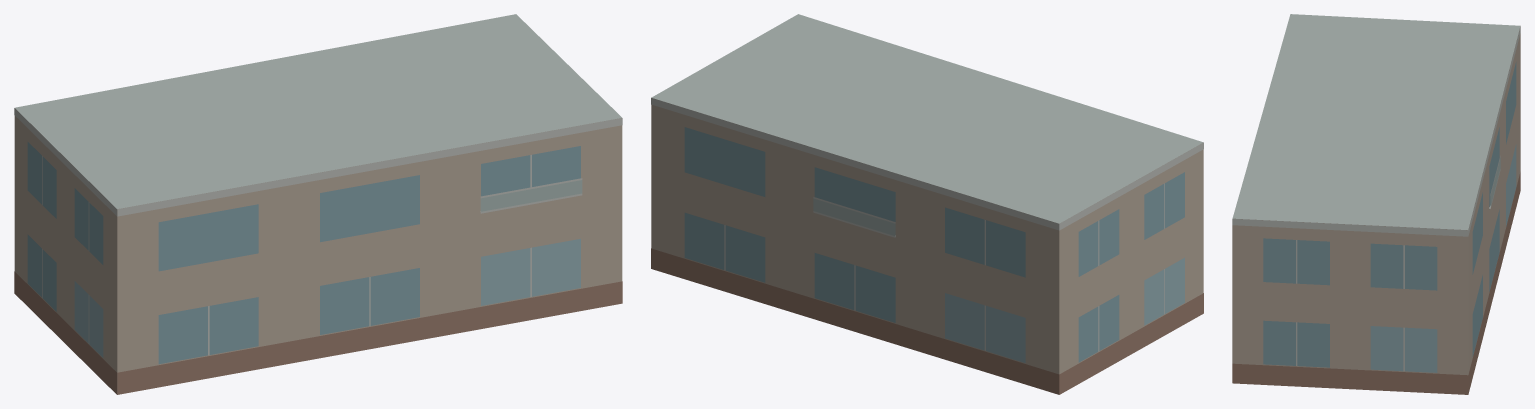
Rendered from survey-upis-32566576.glb.
The picture shows the model from 3 angles, left to right: view 1: azimuth 30°, elevation 25°; view 2: azimuth 150°, elevation 25°; view 3: azimuth 270°, elevation 25°; orthographic projection. The views are drawn at different scales.
Visible parts, largest first — view 1: survey-upis-32566576.tmp; view 2: survey-upis-32566576.tmp; view 3: survey-upis-32566576.tmp.
Part boxes in pixels (bbox=[...]): survey-upis-32566576.tmp: bbox=[14, 14, 622, 394]; survey-upis-32566576.tmp: bbox=[651, 14, 1203, 394]; survey-upis-32566576.tmp: bbox=[1232, 14, 1520, 394].
Bounding box in the file's own units: 17.17 × 6.1 × 9.68.
